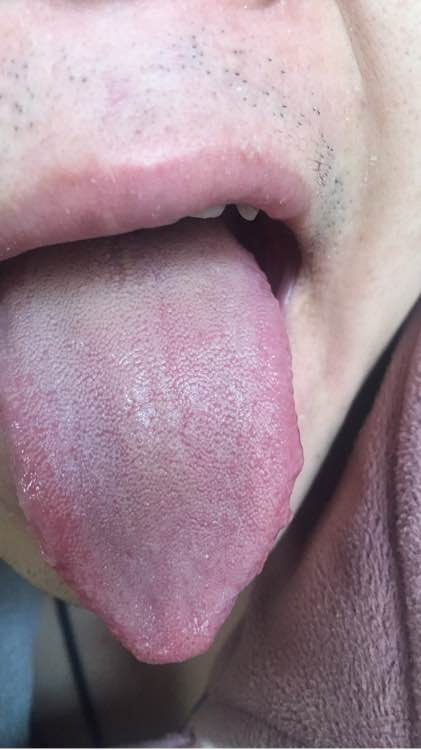baitaishe: (1, 216, 303, 666)
hongshe: (1, 216, 303, 666)
